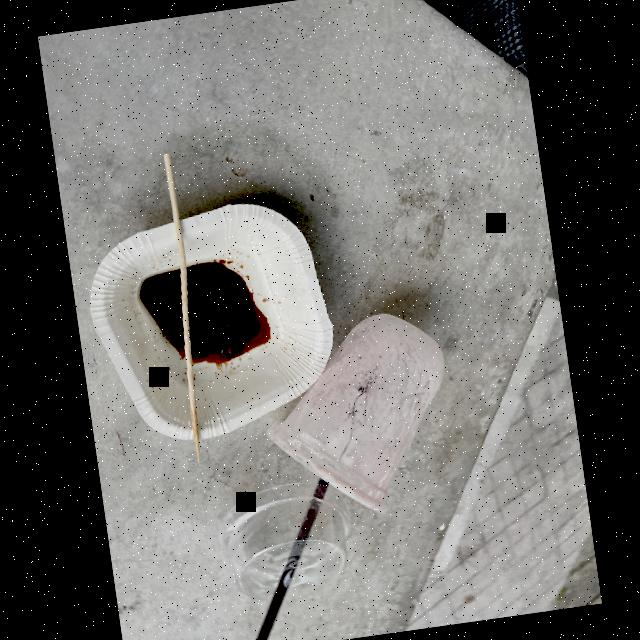cardboard_bowl: (80, 192, 354, 457)
plastic_cup: (272, 308, 469, 532)
plastic_cup_lid: (210, 476, 370, 617)
stick: (149, 139, 204, 466), (249, 464, 338, 640)
